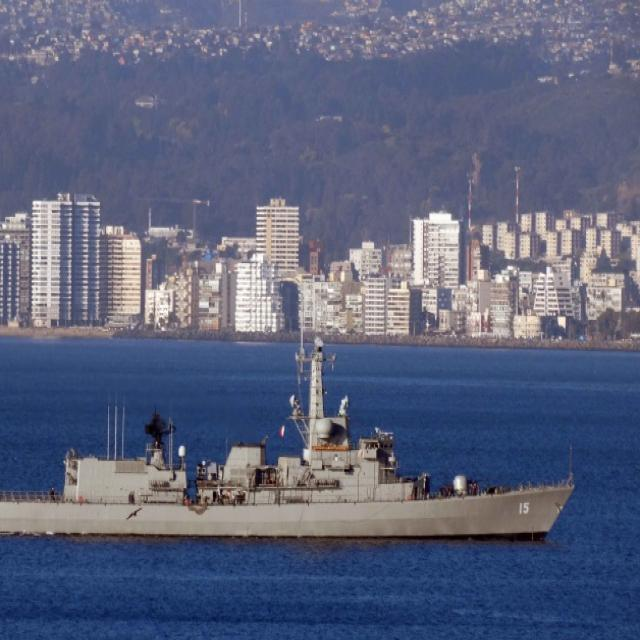Fragata: (1, 335, 581, 549)
